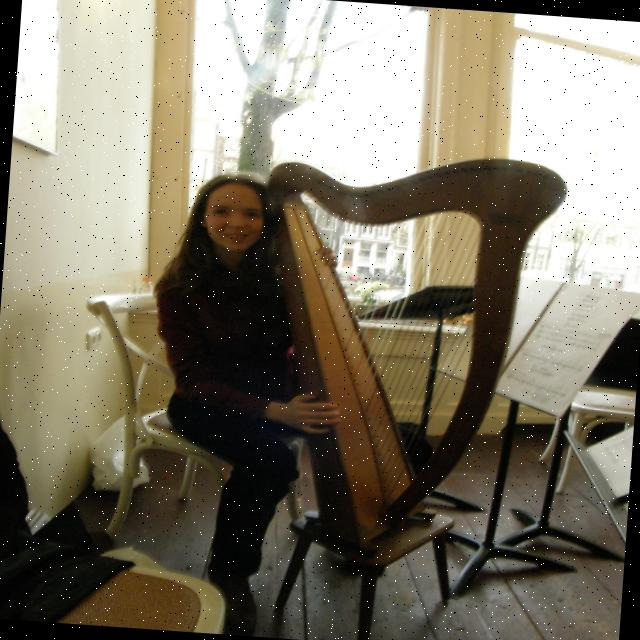harp: (228, 138, 582, 570)
